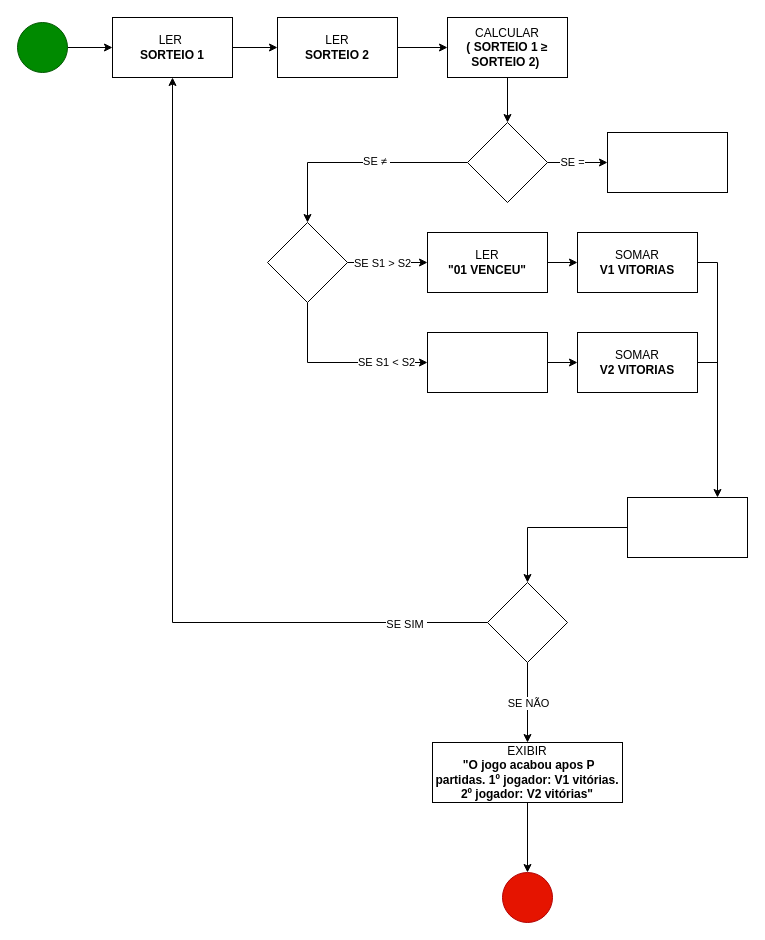
The diagram is 765 pixels wide and 940 high, and some of its shapes have lost their labels. The shapes that lost their labels are listed below. From the top down, each one's centre as x and y in pixels, then its label:
(x=667, y=162): EXIBIR EMPATE
(x=487, y=362): LER "02 VENCEU"
(x=687, y=527): NOVA PARTIDA ? SIM OU NÃO
